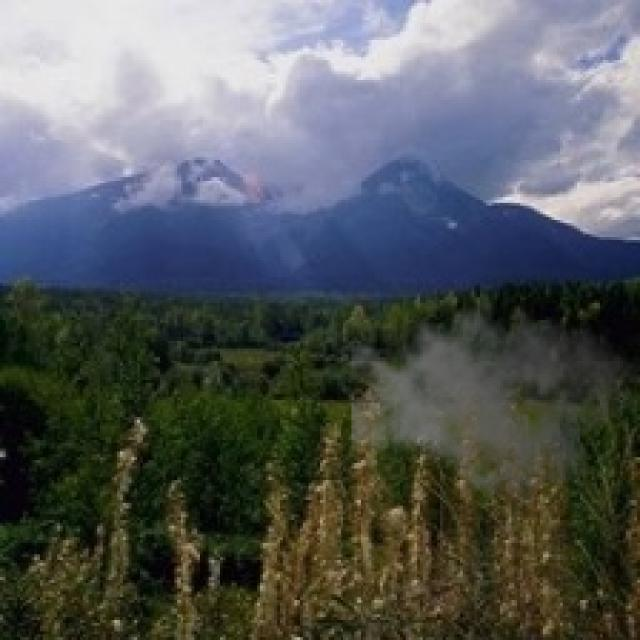Smoke: (352, 283, 628, 506)
